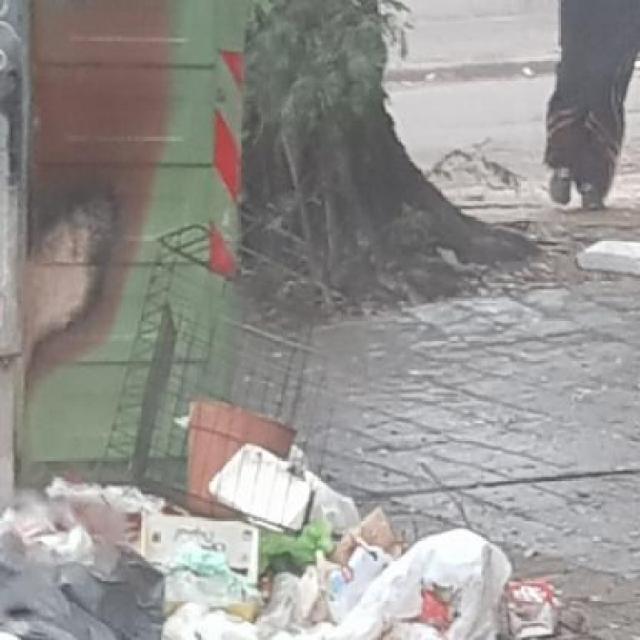garbage: (0, 460, 535, 639), (139, 372, 349, 540), (569, 199, 640, 280)
